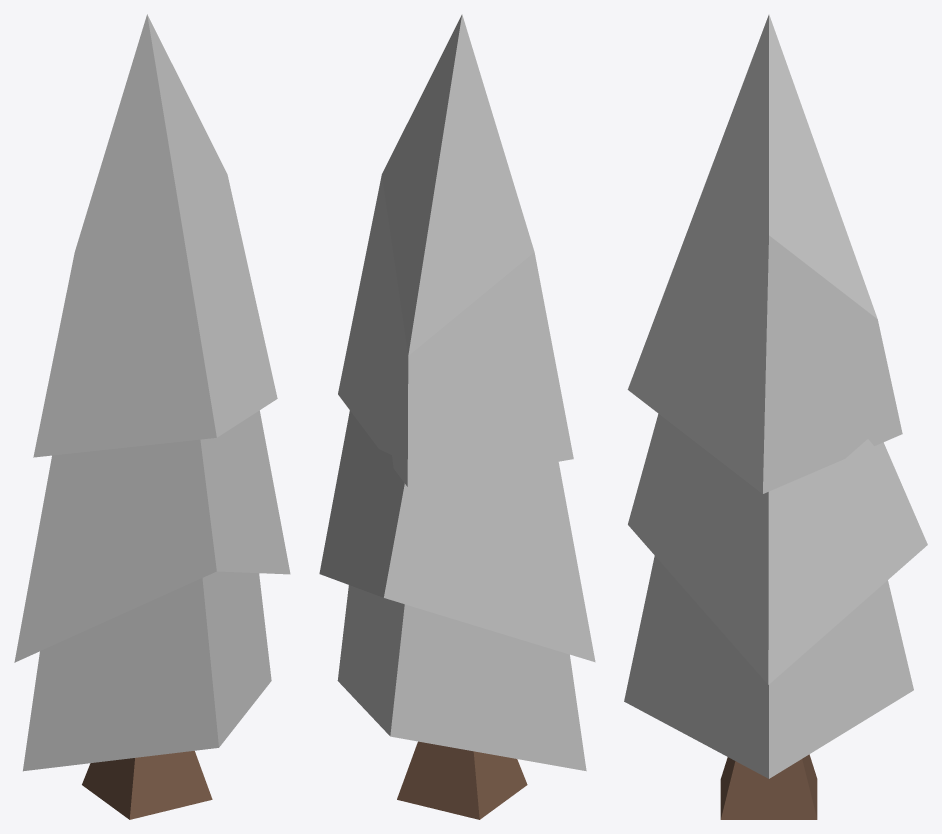
Rendered from Tree_53_White.fbx.
3 renders of one model, left to right at view 1: azimuth 30°, elevation 25°; view 2: azimuth 150°, elevation 25°; view 3: azimuth 270°, elevation 25°, orthographic.
Visible parts, largest first — view 1: Tree_53_White_Part_1, Tree_53_White_Part_2; view 2: Tree_53_White_Part_1, Tree_53_White_Part_2; view 3: Tree_53_White_Part_1, Tree_53_White_Part_2.
Part boxes in pixels (x1,y1,x2,y2): Tree_53_White_Part_1: (14, 14, 290, 771); Tree_53_White_Part_2: (82, 751, 212, 819); Tree_53_White_Part_1: (319, 14, 595, 771); Tree_53_White_Part_2: (397, 741, 527, 819); Tree_53_White_Part_1: (624, 14, 927, 778); Tree_53_White_Part_2: (720, 754, 817, 819).
Size of the model in its own units: 222 by 598 by 210.
